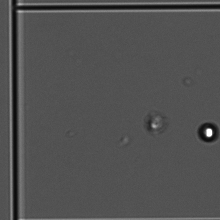Dead Cell: (143, 107, 172, 139)
Living Cell: (196, 119, 219, 146)
